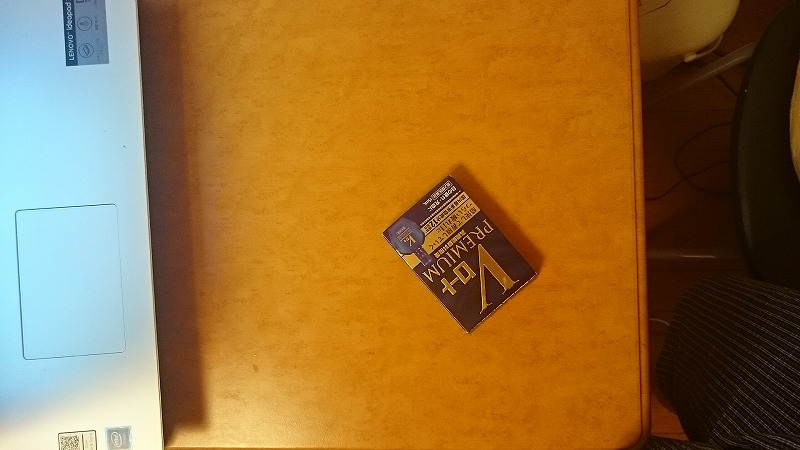D: (376, 173, 543, 338)
